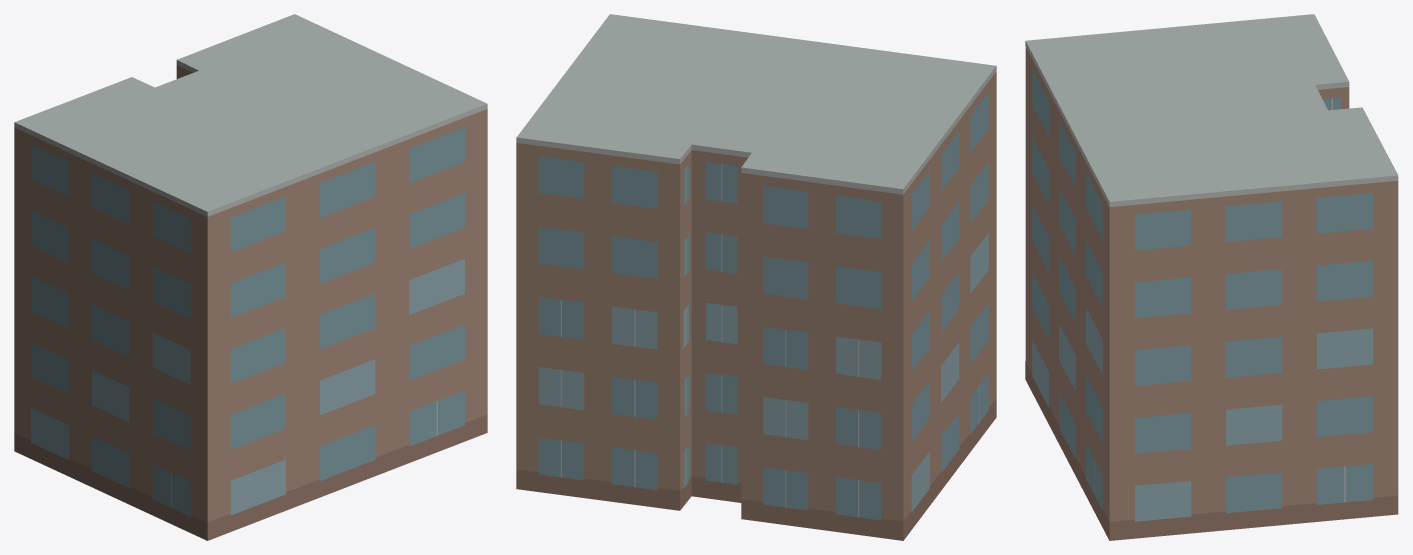
File: survey-upis-32763219.glb
The picture shows the model from 3 angles, left to right: view 1: azimuth 30°, elevation 25°; view 2: azimuth 150°, elevation 25°; view 3: azimuth 270°, elevation 25°; orthographic projection. The views are drawn at different scales.
Visible parts, largest first — view 1: survey-upis-32763219.tmp; view 2: survey-upis-32763219.tmp; view 3: survey-upis-32763219.tmp.
Part boxes in pixels (x1=…): survey-upis-32763219.tmp: x1=14, y1=14, x2=487, y2=540; survey-upis-32763219.tmp: x1=516, y1=14, x2=996, y2=540; survey-upis-32763219.tmp: x1=1025, y1=14, x2=1398, y2=540.
Size of the model in its own units: 18.92 by 15.9 by 15.87.
